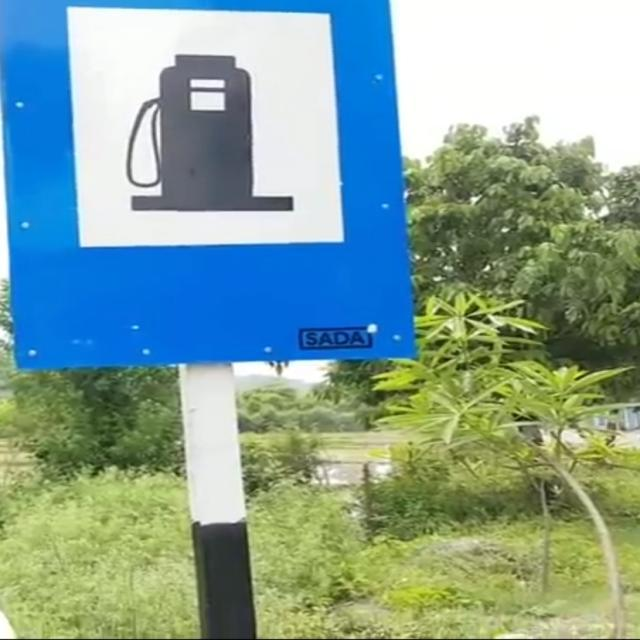petrol pump ahead: (70, 8, 349, 255)
